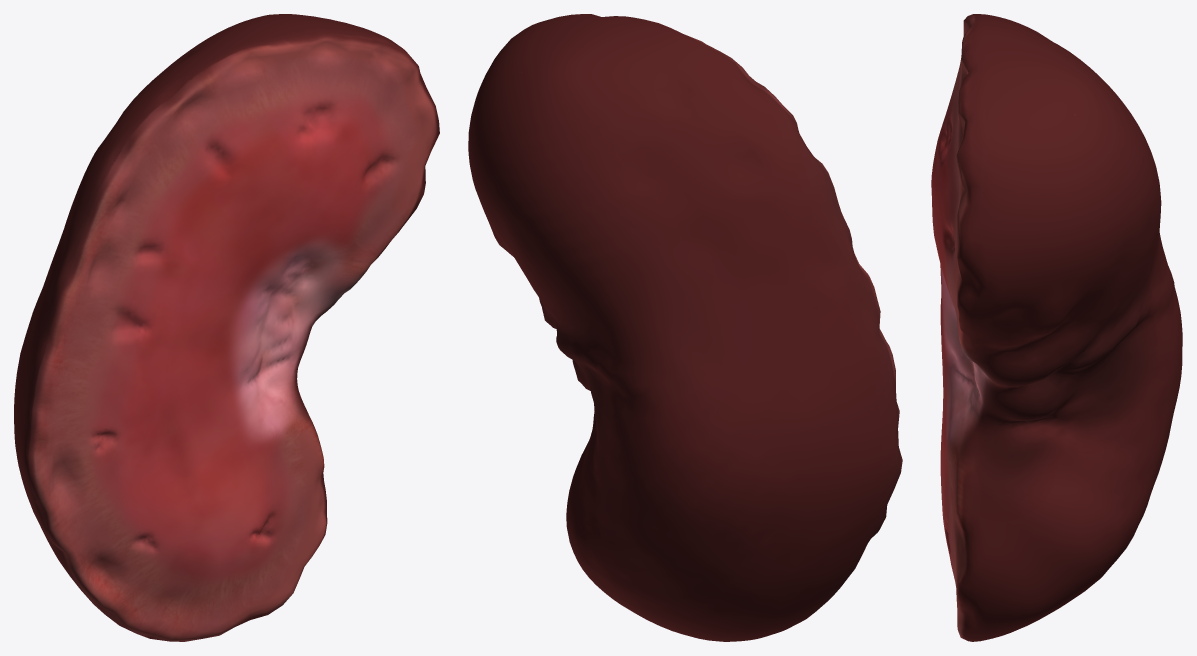
File: 5_icmnefrit.glb
3 views of the same model, side by side, from view 1: azimuth 30°, elevation 25°; view 2: azimuth 150°, elevation 25°; view 3: azimuth 270°, elevation 25° (orthographic). The views are drawn at different scales.
Parts seen in each view (by area): view 1: ucuncubobrkobject; view 2: ucuncubobrkobject; view 3: ucuncubobrkobject.
Part boxes in pixels (x1,y1,x2,y2): ucuncubobrkobject: (14, 14, 439, 641); ucuncubobrkobject: (468, 14, 902, 641); ucuncubobrkobject: (931, 14, 1182, 641).
Bounding box in the file's own units: 0.3866 × 0.5265 × 0.1936.
1 material, 1 textured.
